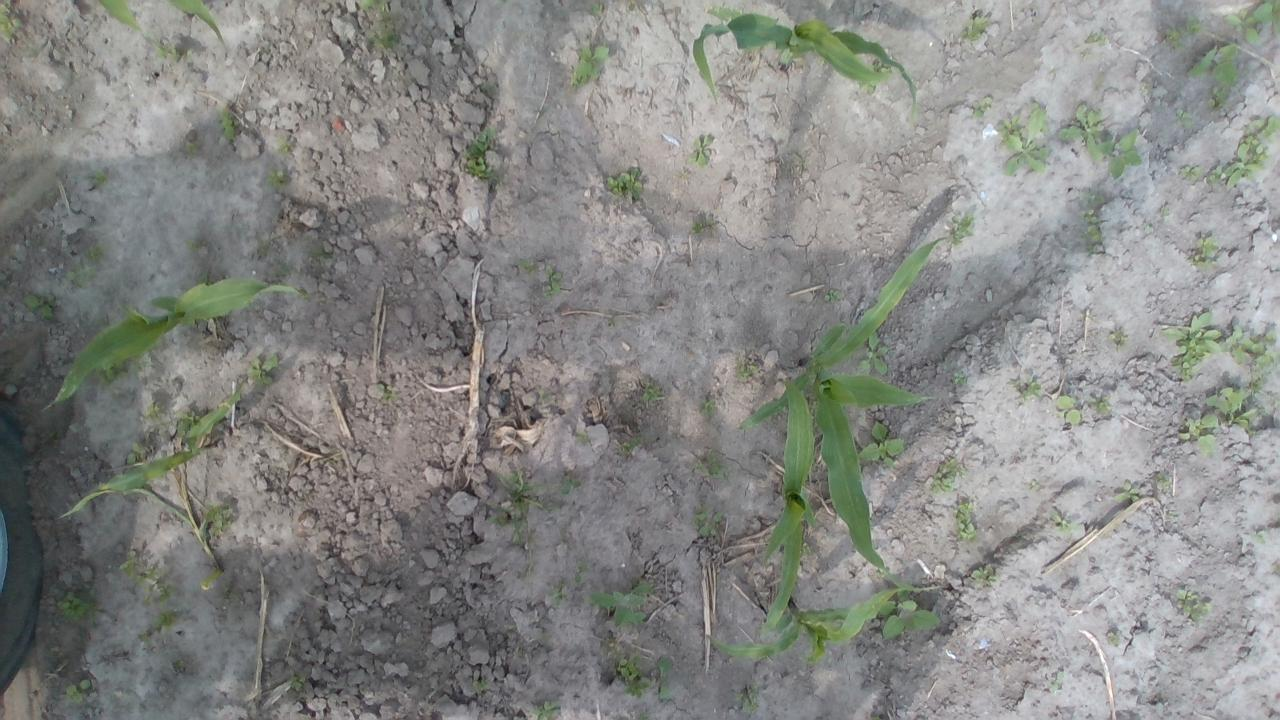Maize: (738, 234, 948, 592), (44, 280, 310, 412), (692, 7, 918, 124), (57, 384, 244, 524), (702, 585, 919, 668), (752, 381, 816, 638), (131, 483, 226, 590), (84, 0, 226, 47)
Weeds: (1160, 310, 1228, 380), (1221, 115, 1280, 189), (996, 102, 1052, 176), (1188, 43, 1243, 109), (584, 580, 653, 628), (600, 637, 652, 699), (490, 472, 550, 525), (1058, 102, 1108, 162), (880, 592, 940, 639), (1229, 326, 1280, 380), (1224, 0, 1280, 43), (1208, 387, 1258, 435), (1098, 129, 1142, 179), (858, 422, 904, 468), (462, 123, 496, 180), (570, 44, 610, 91), (1177, 412, 1218, 456), (58, 588, 100, 624), (1079, 192, 1105, 250), (857, 331, 890, 376), (1175, 588, 1214, 625), (136, 568, 174, 604), (367, 13, 400, 50), (931, 459, 966, 493), (607, 167, 643, 200), (249, 351, 280, 386), (1187, 237, 1218, 272), (952, 499, 977, 540), (1006, 375, 1042, 402), (204, 500, 232, 534), (694, 505, 722, 538), (694, 451, 726, 479), (0, 0, 22, 40), (949, 214, 975, 247), (732, 684, 759, 714), (1050, 509, 1080, 536), (689, 134, 712, 168), (175, 408, 202, 436), (1056, 395, 1082, 424), (26, 294, 55, 320), (168, 136, 202, 158), (542, 265, 564, 299), (658, 656, 674, 702), (961, 16, 990, 41), (1112, 480, 1142, 503), (558, 473, 584, 499), (66, 264, 92, 288), (95, 362, 124, 383), (530, 700, 560, 720), (119, 550, 140, 578), (66, 680, 90, 704), (154, 608, 178, 631), (154, 41, 180, 62), (971, 565, 997, 586), (221, 109, 238, 140), (546, 583, 568, 606), (266, 168, 288, 191), (640, 381, 662, 404), (1162, 28, 1184, 49), (1108, 330, 1129, 352), (512, 518, 530, 543), (971, 97, 992, 118), (1089, 396, 1112, 415), (1248, 373, 1266, 396), (126, 441, 144, 464), (1183, 13, 1201, 36), (619, 437, 643, 454), (574, 559, 590, 584), (378, 383, 398, 403), (92, 168, 113, 187), (698, 397, 717, 418), (1180, 164, 1203, 181), (691, 220, 716, 235), (1049, 670, 1066, 692), (360, 0, 389, 12), (1086, 32, 1108, 47), (138, 628, 156, 646), (1176, 108, 1194, 126), (739, 362, 758, 379), (310, 248, 332, 262), (88, 245, 106, 262), (823, 288, 842, 304), (472, 677, 488, 695), (1250, 528, 1268, 544), (480, 83, 499, 98), (1207, 165, 1222, 184), (288, 676, 304, 693), (951, 371, 967, 388), (146, 404, 164, 419), (858, 80, 878, 93), (518, 258, 534, 274), (278, 136, 294, 152), (1156, 474, 1172, 489), (538, 389, 554, 403), (1078, 49, 1094, 62), (575, 432, 589, 446), (1108, 630, 1120, 646), (869, 64, 892, 72), (590, 3, 604, 16), (1159, 204, 1171, 219), (185, 239, 201, 250), (538, 632, 550, 646), (800, 541, 811, 555), (675, 168, 688, 179), (1027, 480, 1039, 491), (1142, 223, 1152, 235), (637, 712, 649, 720), (628, 1, 637, 11), (1140, 86, 1148, 97), (1275, 562, 1280, 576), (618, 715, 628, 720)
